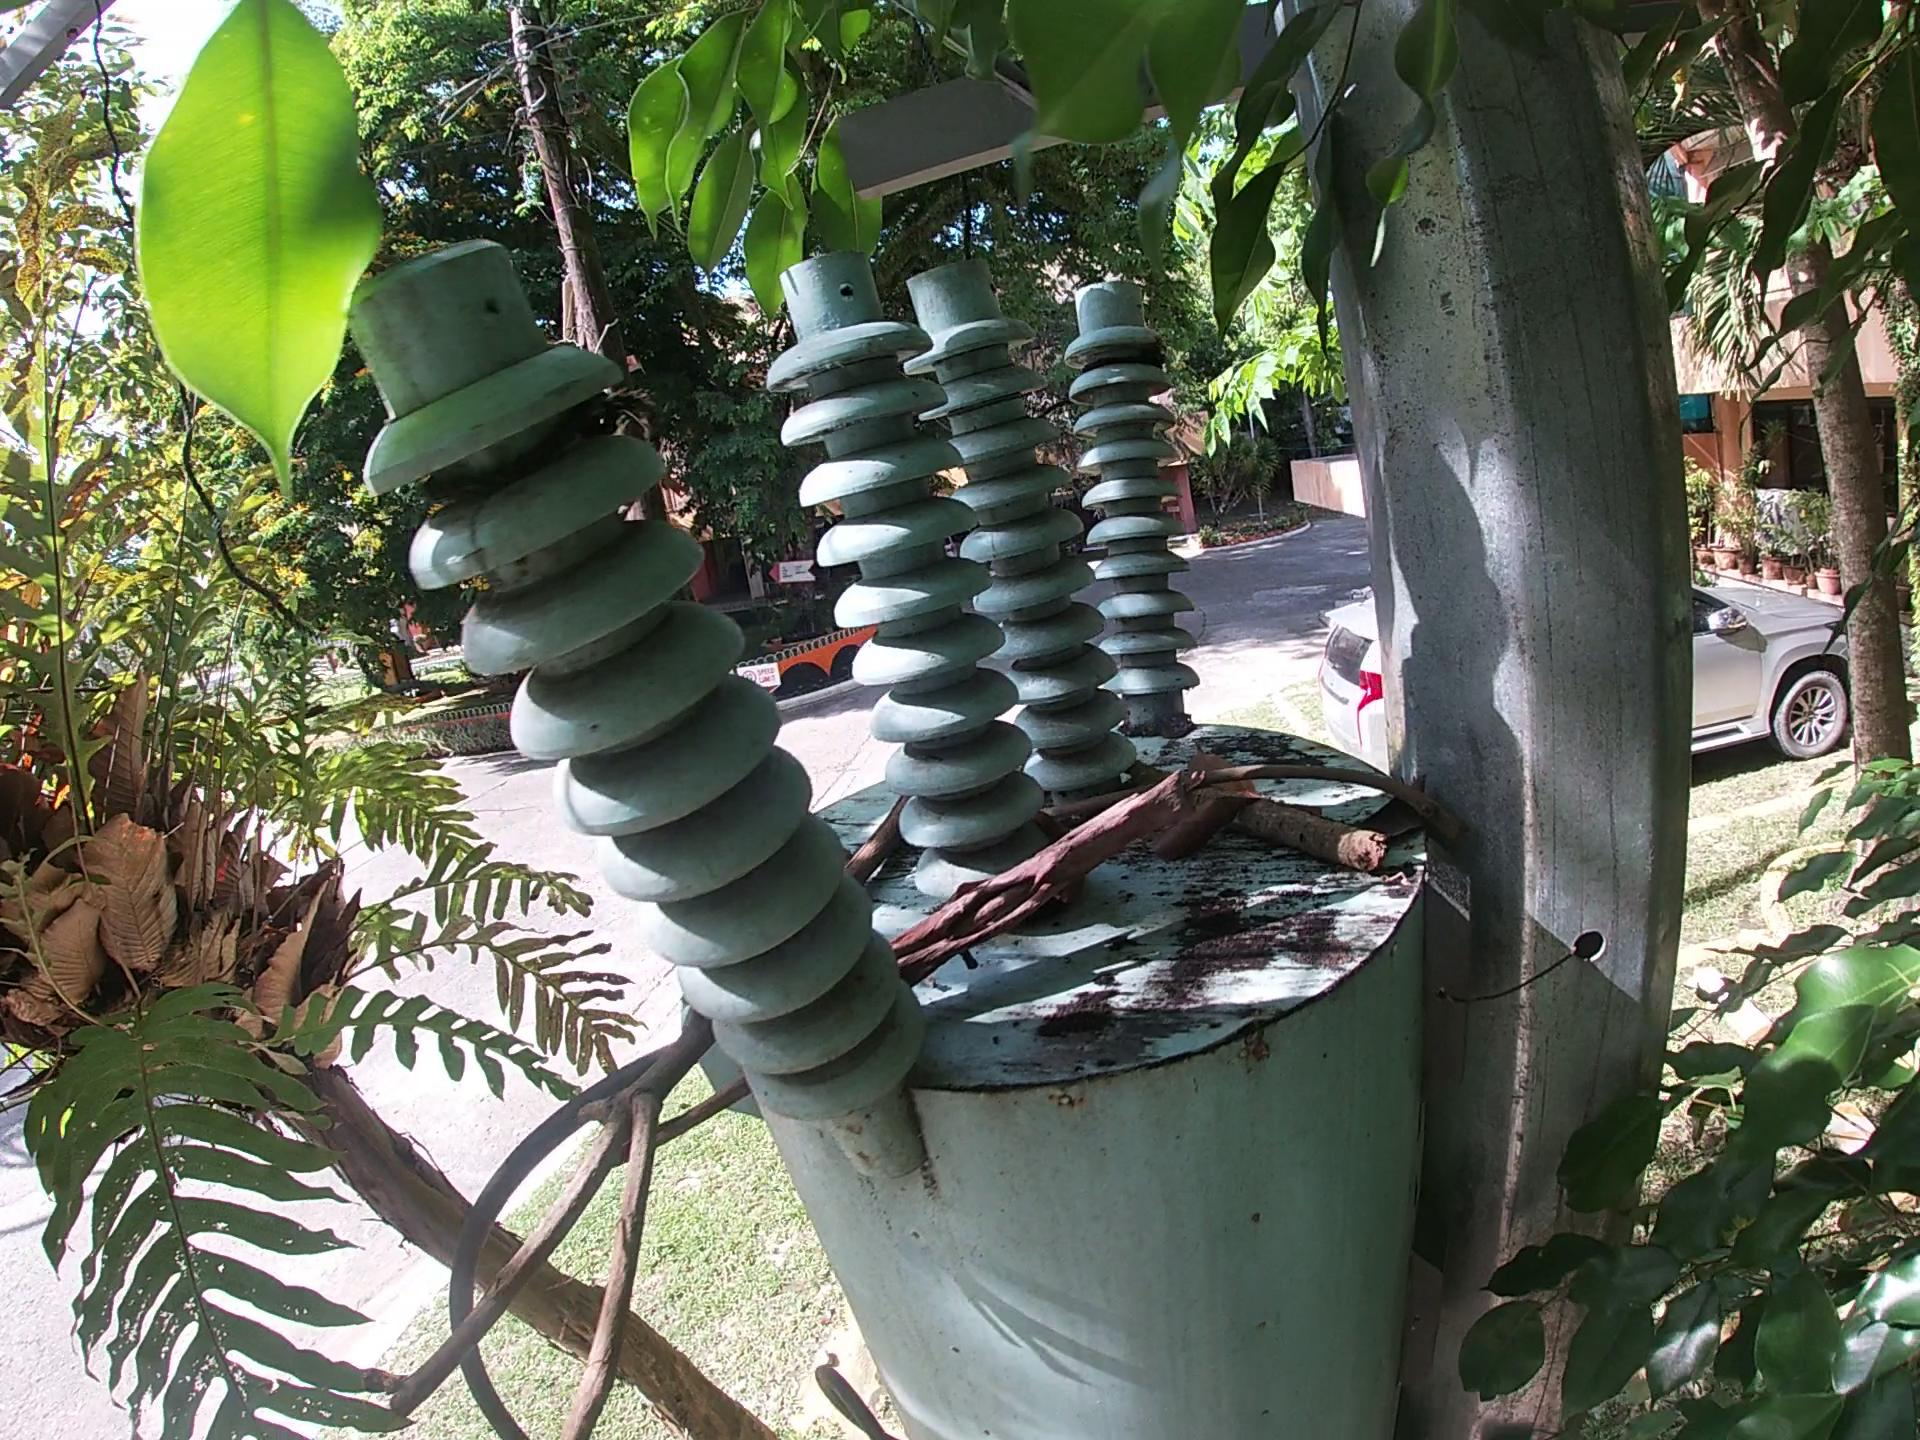leaf: (1141, 787, 1249, 873), (1355, 759, 1445, 841)
tree branch: (375, 995, 729, 1435), (880, 765, 1200, 988), (1027, 756, 1488, 850), (1134, 759, 1391, 871), (841, 788, 915, 888)
